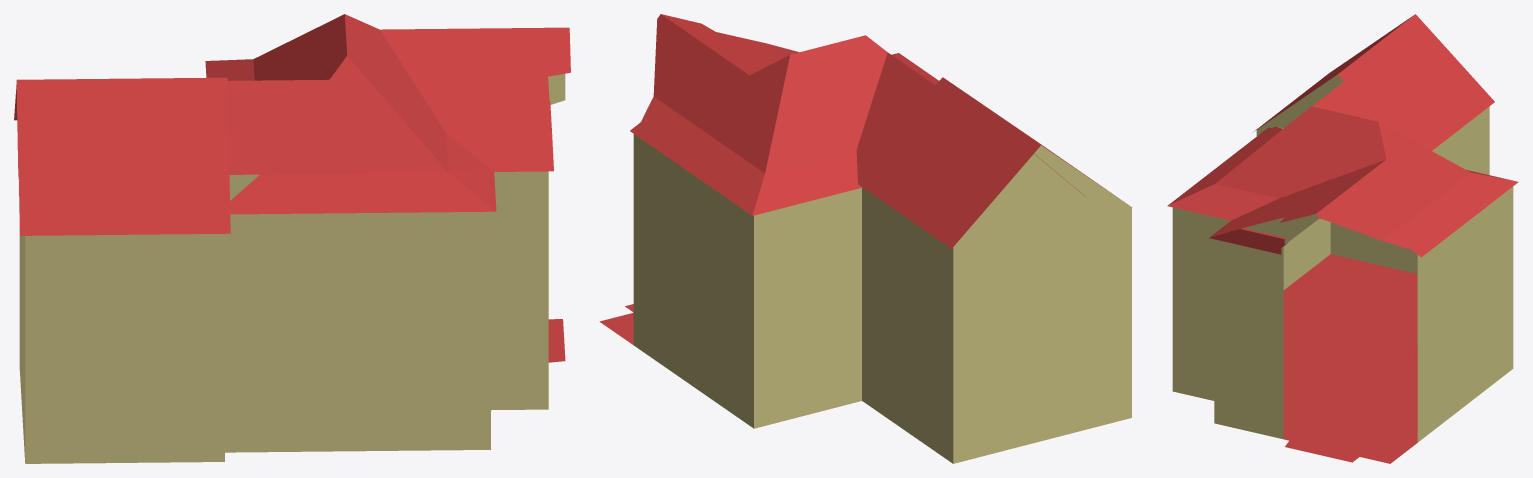
3 renders of one model, left to right at view 1: azimuth 30°, elevation 25°; view 2: azimuth 150°, elevation 25°; view 3: azimuth 270°, elevation 25°, orthographic. The views are drawn at different scales.
Size of the model in its own units: 30.07 by 21.05 by 17.48.
